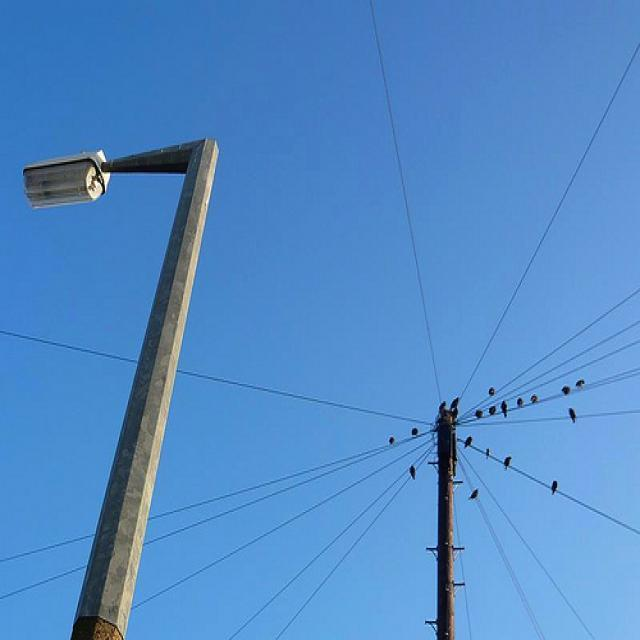pole: (430, 401, 466, 640)
wire: (0, 431, 432, 605), (459, 40, 640, 401), (0, 429, 433, 564), (133, 439, 432, 610), (1, 328, 430, 428), (228, 444, 436, 640), (274, 448, 434, 639), (370, 4, 443, 403), (457, 447, 597, 639), (463, 288, 638, 421), (459, 438, 640, 536), (464, 406, 638, 428)
